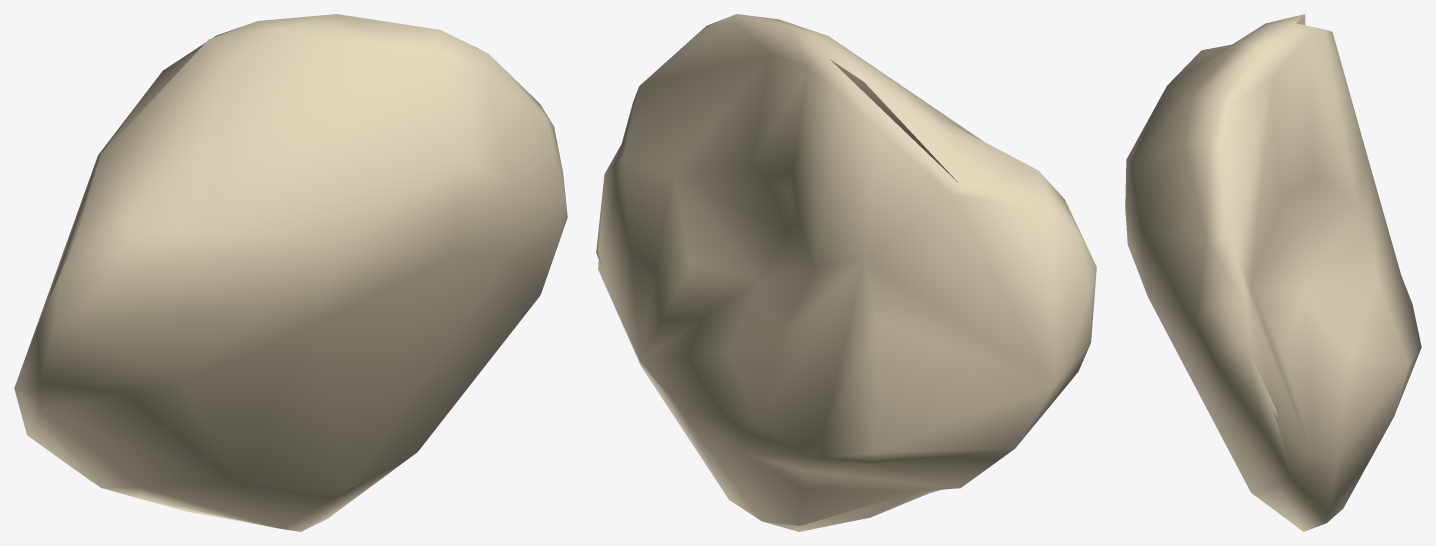
Rendered from esqueleto-patella-l.glb.
The picture shows the model from 3 angles, left to right: view 1: azimuth 30°, elevation 25°; view 2: azimuth 150°, elevation 25°; view 3: azimuth 270°, elevation 25°; orthographic projection. The views are drawn at different scales.
Visible parts, largest first — view 1: Patella.l; view 2: Patella.l; view 3: Patella.l.
Part boxes in pixels (x1,y1,x2,y2): Patella.l: [14, 14, 567, 531]; Patella.l: [596, 14, 1096, 531]; Patella.l: [1125, 14, 1421, 531].
Bounding box in the file's own units: 0.0432 × 0.0409 × 0.0228.
